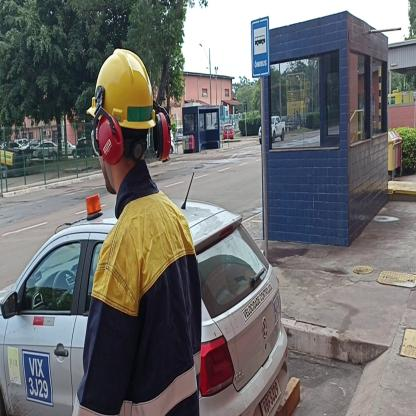C_eletrica: (87, 215, 202, 416)
Capacete: (88, 44, 163, 130)
